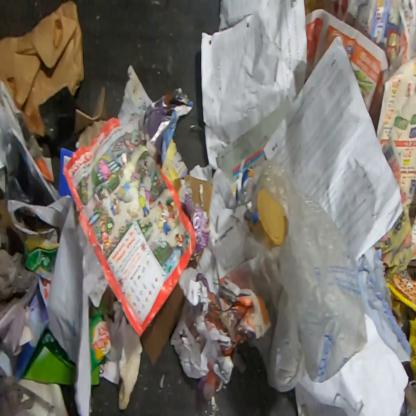cardboard: (0, 0, 85, 140), (138, 87, 194, 168), (140, 280, 186, 370), (19, 324, 77, 388), (384, 272, 415, 381), (23, 233, 60, 315), (90, 296, 120, 386), (183, 180, 211, 265), (74, 85, 107, 150), (184, 173, 213, 219)
rigid_plastic: (248, 188, 287, 246)
soft_plastic: (225, 156, 367, 394)
